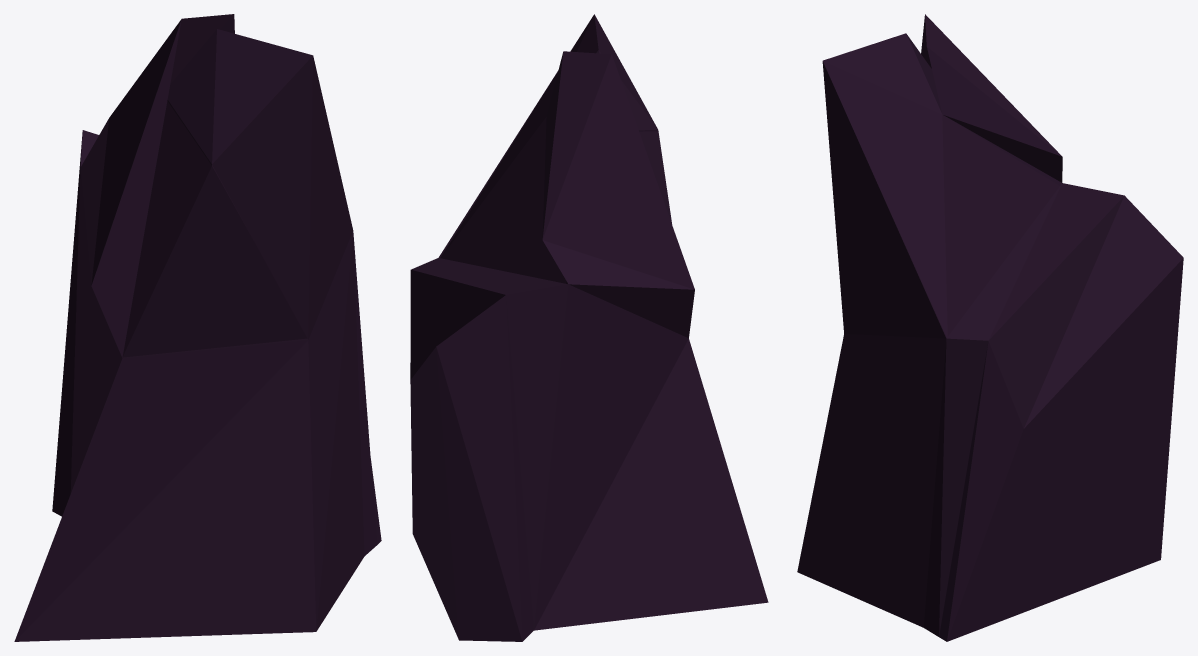
Rendered from C.pedra1.fbx.
3 renders of one model, left to right at view 1: azimuth 30°, elevation 25°; view 2: azimuth 150°, elevation 25°; view 3: azimuth 270°, elevation 25°, orthographic. The views are drawn at different scales.
Parts seen in each view (by area): view 1: pCone4; view 2: pCone4; view 3: pCone4.
Part boxes in pixels (bbox=[...]): pCone4: bbox=[14, 14, 381, 641]; pCone4: bbox=[410, 14, 768, 641]; pCone4: bbox=[797, 14, 1183, 641].
Bounding box in the file's own units: 1.94 × 2.81 × 1.85.
